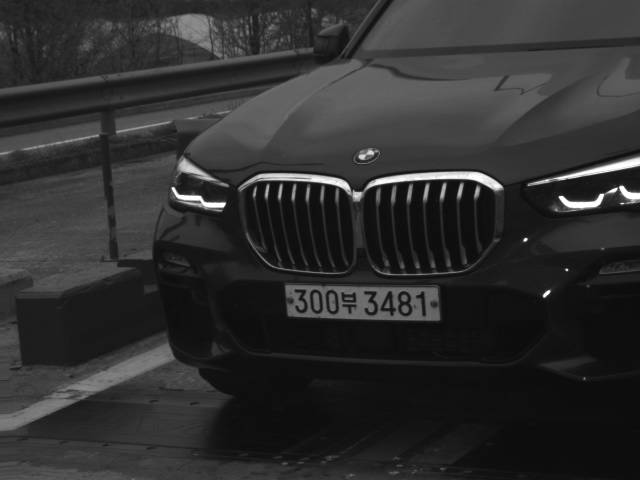car: (151, 1, 638, 403)
plate: (282, 281, 443, 322)
